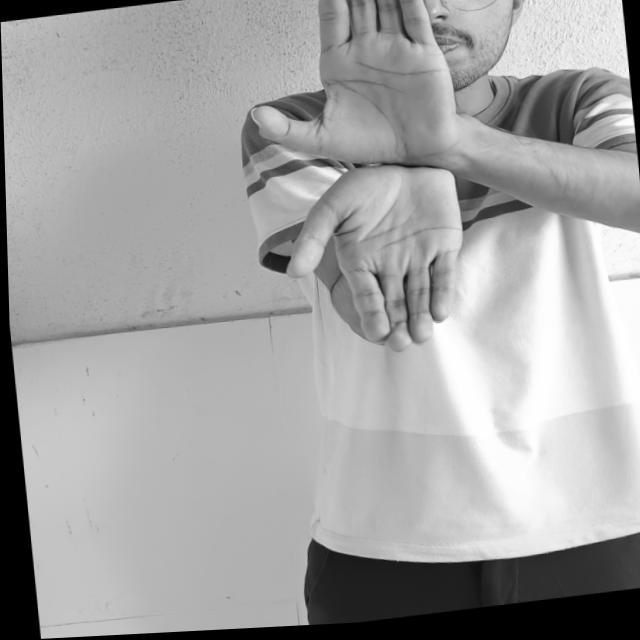Morning: (250, 0, 541, 379)
